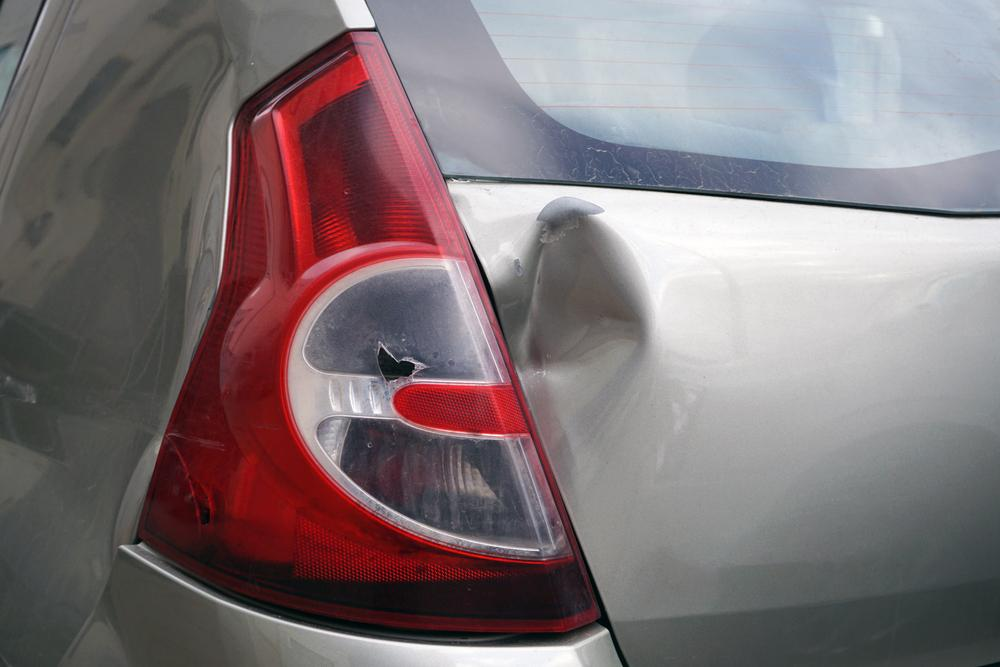dent: (0, 18, 237, 660), (494, 210, 641, 446)
lamp broken: (133, 28, 605, 634)
